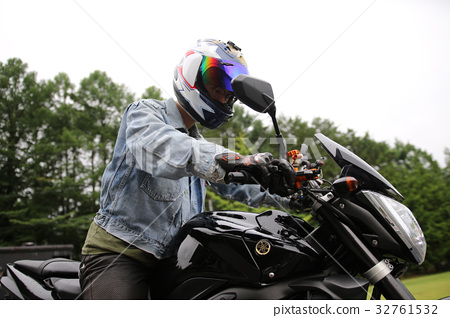helmet: (176, 42, 242, 126)
